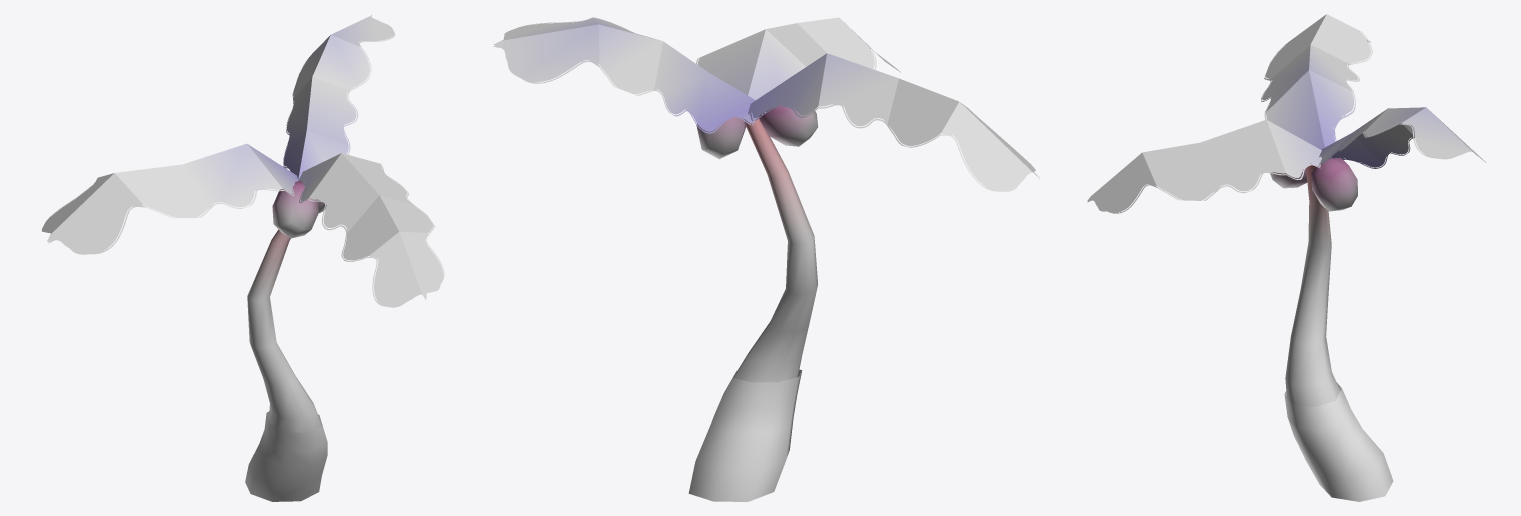
File: PalmTree3.fbx
3 views of the same model, side by side, from view 1: azimuth 30°, elevation 25°; view 2: azimuth 150°, elevation 25°; view 3: azimuth 270°, elevation 25° (orthographic). The views are drawn at different scales.
Parts seen in each view (by area): view 1: PalmLeaves3, Cube.022, Cube.025, Coconut.004; view 2: PalmLeaves3, Cube.025, Cube.022, Coconut.004, Coconut.005; view 3: PalmLeaves3, Cube.025, Cube.022, Coconut.005.
Part boxes in pixels (x1,y1,x2,y2): PalmLeaves3: (42, 15, 444, 307); Cube.022: (247, 229, 322, 432); Cube.025: (245, 411, 327, 501); Coconut.004: (272, 180, 318, 238); PalmLeaves3: (493, 17, 1039, 191); Cube.025: (688, 369, 802, 501); Cube.022: (733, 116, 817, 382); Coconut.004: (759, 104, 818, 146); Coconut.005: (696, 115, 746, 159); PalmLeaves3: (1087, 14, 1486, 213); Cube.025: (1284, 383, 1393, 501); Cube.022: (1285, 163, 1340, 406); Coconut.005: (1311, 157, 1357, 211).
Size of the model in its own units: 891 by 804 by 734.
